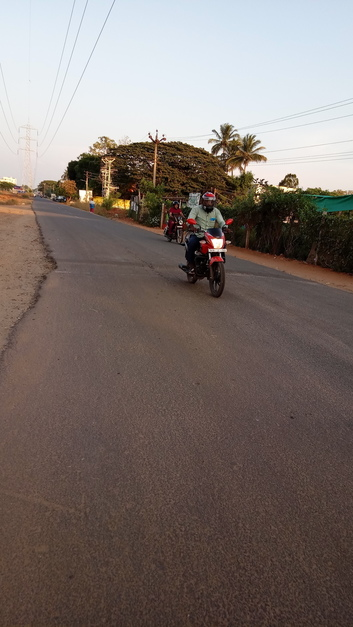bump: (53, 254, 319, 285)
